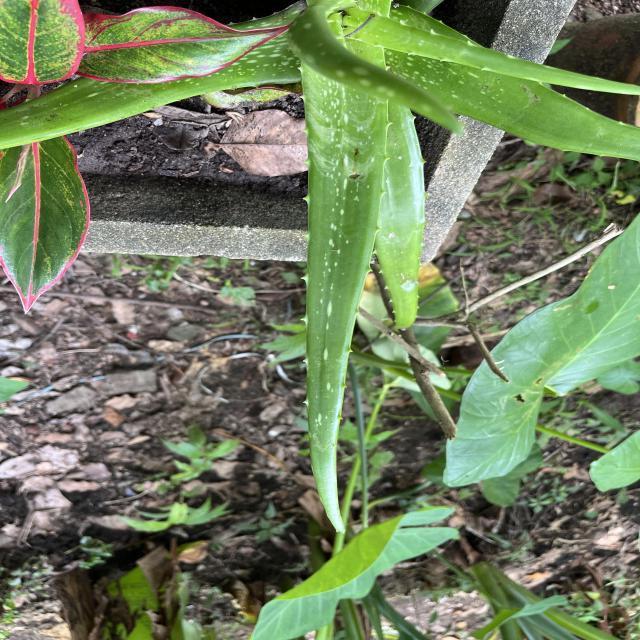Aloe vera: (293, 54, 394, 533)
